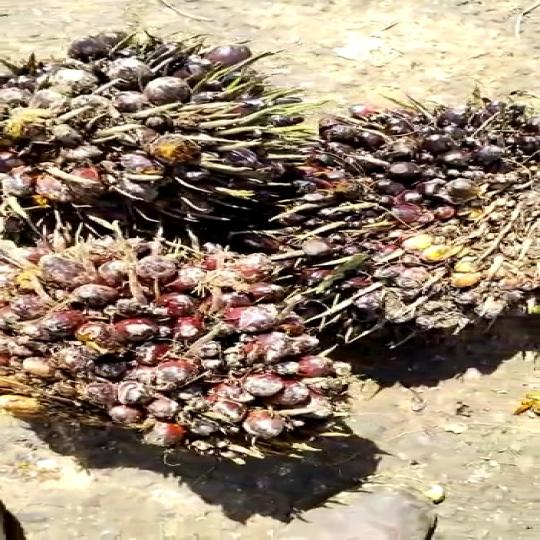kurang masak: (0, 219, 380, 482), (265, 95, 540, 329), (0, 29, 299, 215)
